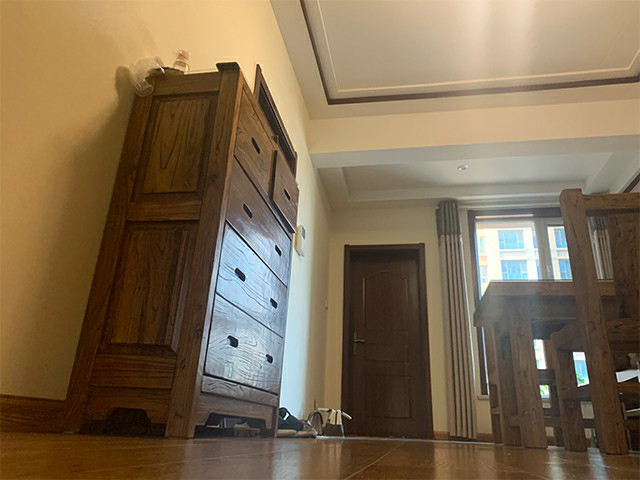cabinet: (61, 59, 300, 440)
curtain: (435, 198, 479, 443)
stool: (544, 187, 639, 455)
table: (473, 279, 618, 449)
